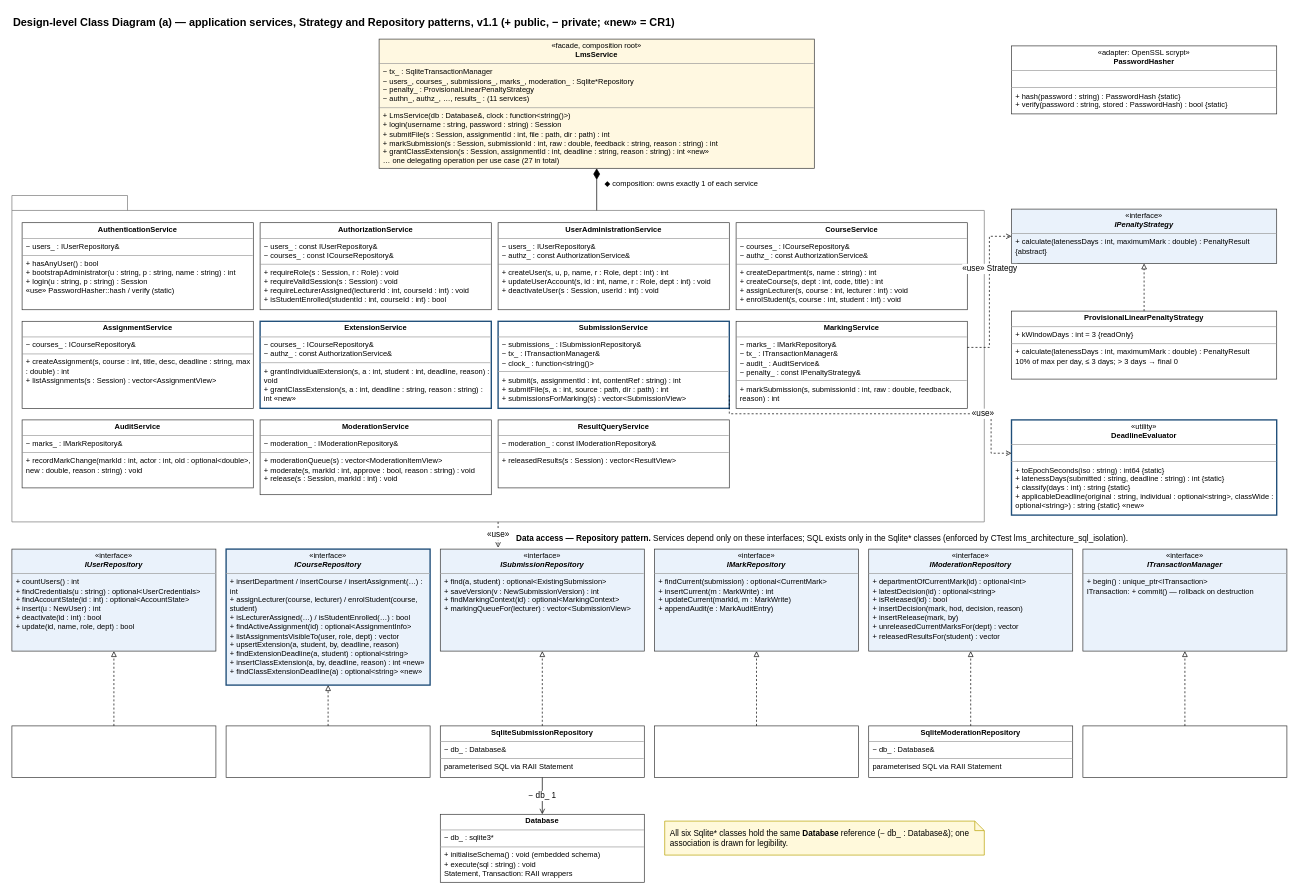
The diagram is 1299 pixels wide and 894 high, and some of its shapes have lost their labels. The shapes that lost their labels are listed below. From the top down, each one's box as (x1, y1, x2, y2) in pixels, then its label:
(11, 195, 984, 522): Application services
(11, 725, 216, 778): SqliteUserRepository − db_ : Database& parameterised SQL via RAII Statement
(225, 725, 430, 778): SqliteCourseRepository − db_ : Database& parameterised SQL via RAII Statement
(654, 725, 859, 778): SqliteMarkRepository − db_ : Database& parameterised SQL via RAII Statement
(1082, 725, 1287, 778): SqliteTransactionManager − db_ : Database& parameterised SQL via RAII Statement
